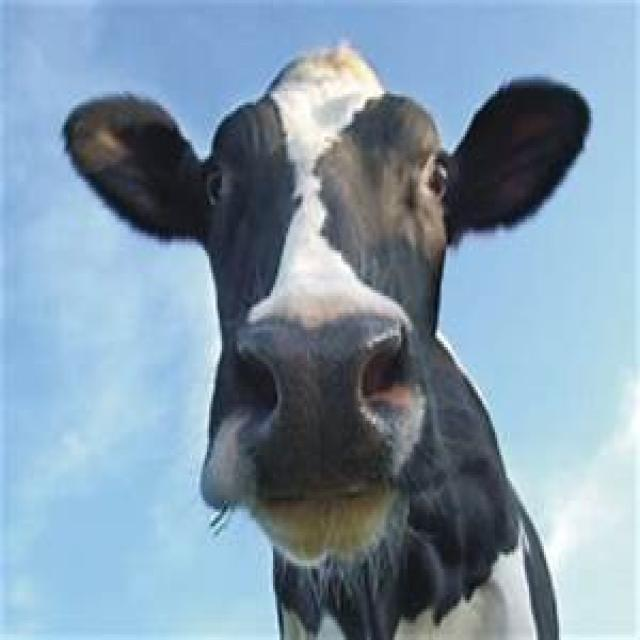animal: (60, 37, 591, 637)
